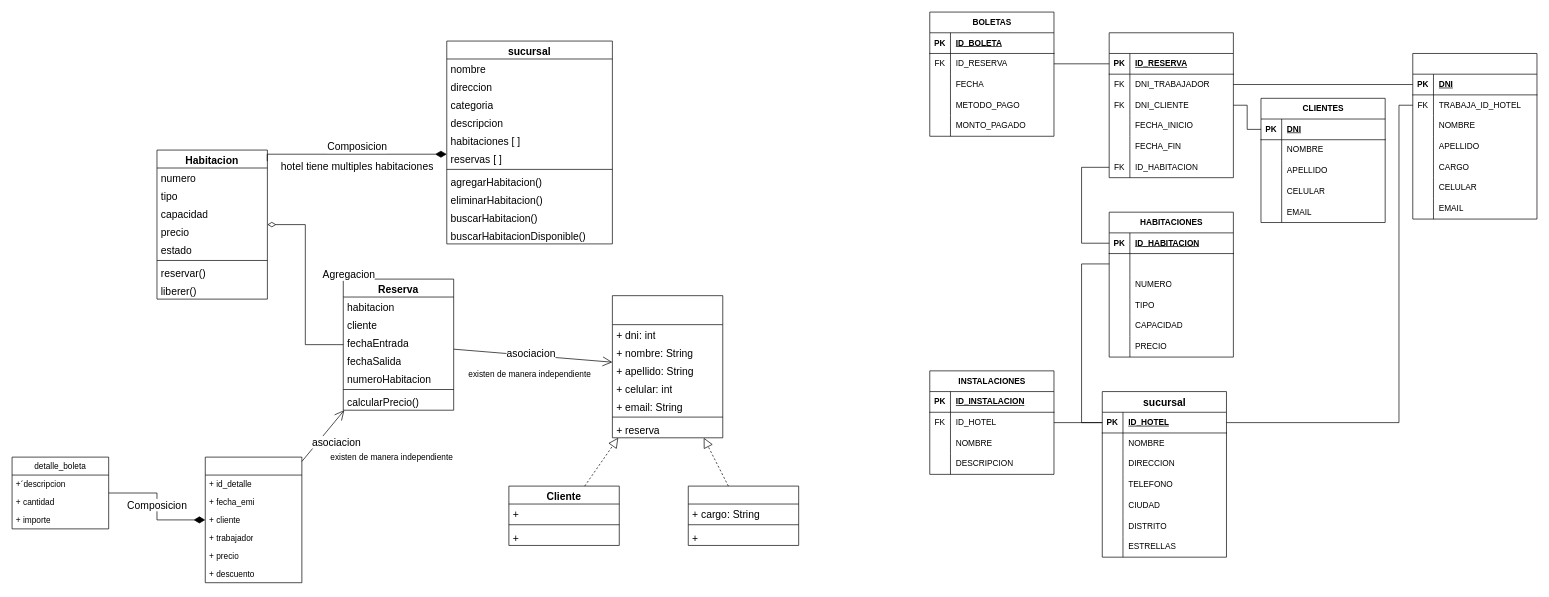
This 1549x597 diagram has some shape labels left out. Here are the shapes that lost their labels. From the top down, the box of each, then its label:
(1108, 32, 1233, 178): RESERVAS
(1412, 53, 1537, 219): TRABAJADORES
(612, 295, 723, 438): Persona (abstract)
(205, 456, 302, 583): Boleta
(688, 485, 799, 545): Trabajador
